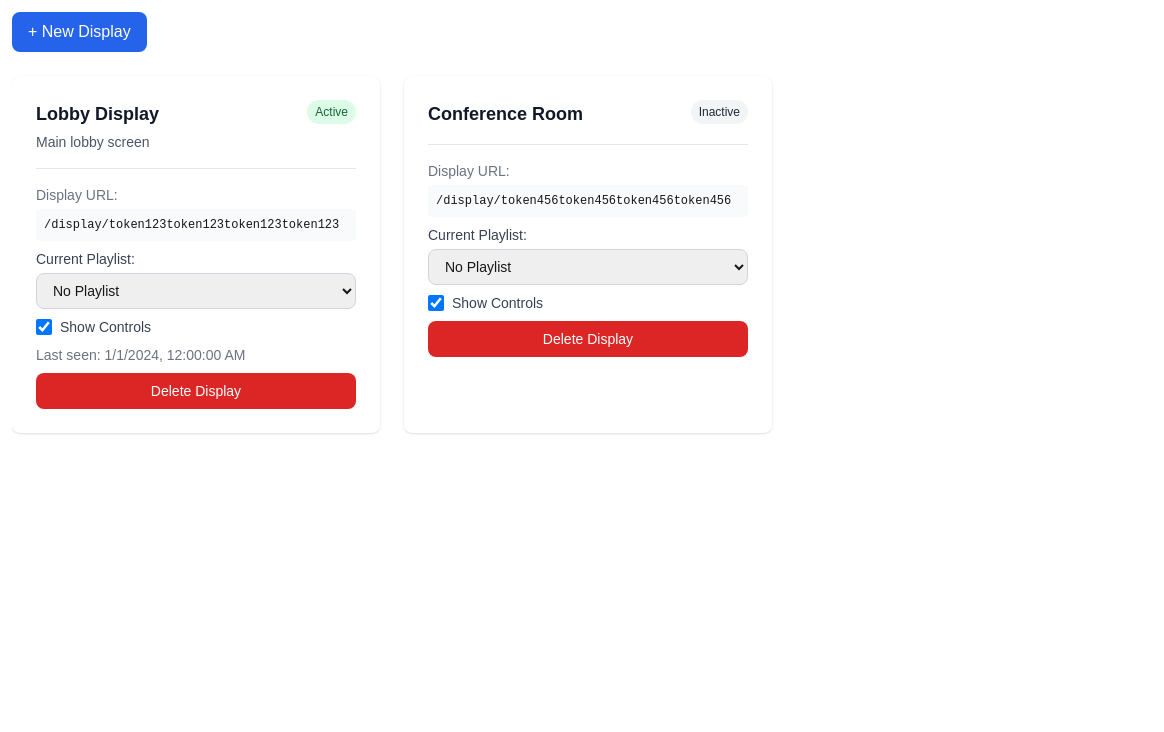
Test: DisplayManager Component › should show create form when new display button clicked
This screenshot has width=1164, height=732.
Click the button "+ New Display": (79, 32) [12,12,147,52]
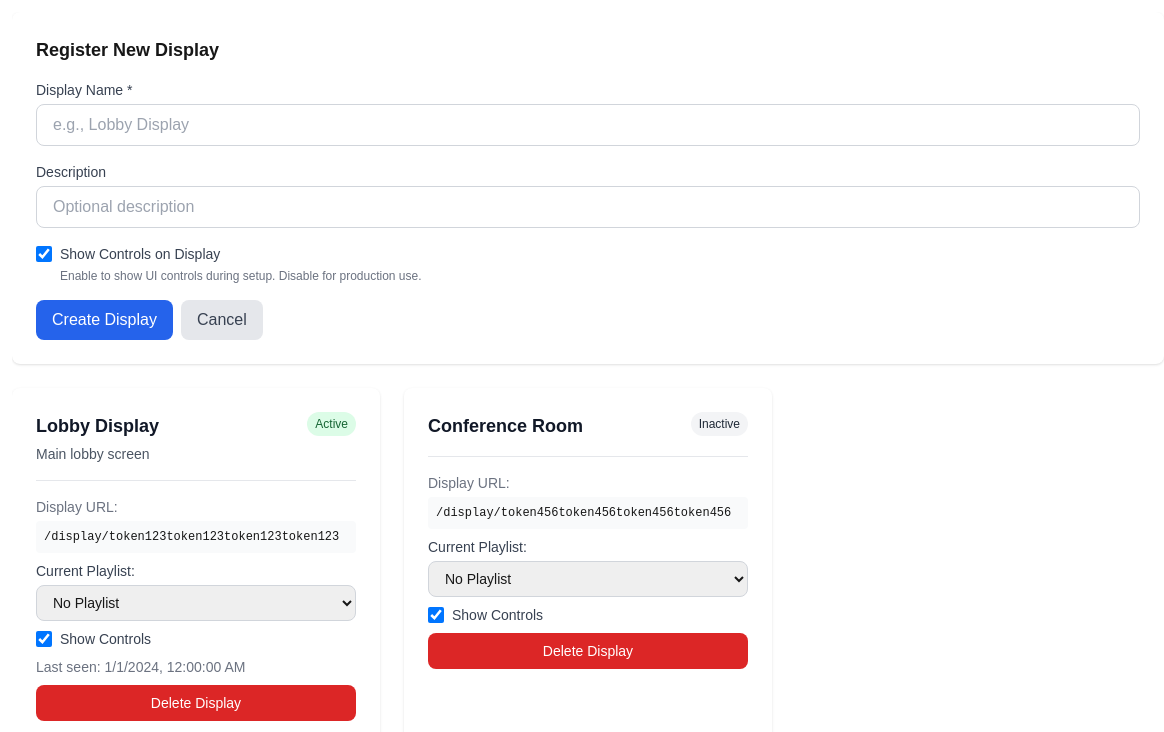
Result: the heading "Register New Display" is shown at [36,40,219,60]
Result: the field with placeholder "e.g., Lobby Display" is shown at [36,104,1140,146]
